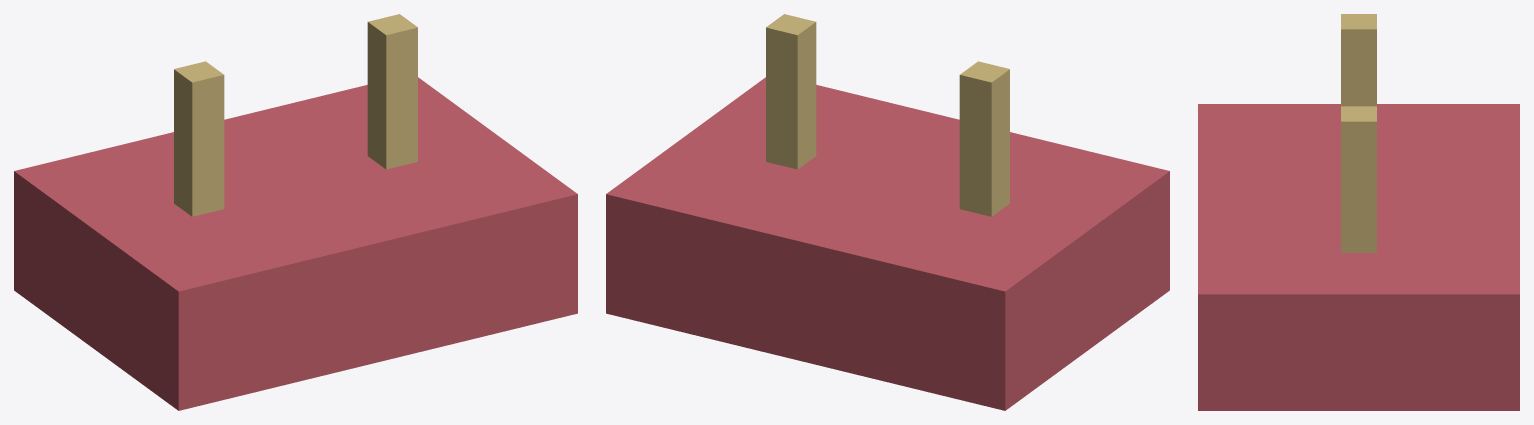
3 renders of one model, left to right at view 1: azimuth 30°, elevation 25°; view 2: azimuth 150°, elevation 25°; view 3: azimuth 270°, elevation 25°, orthographic. The views are drawn at different scales.
Visible parts, largest first — view 1: L104_W125_red_0, L104_W125_gold_1; view 2: L104_W125_red_0, L104_W125_gold_1; view 3: L104_W125_red_0, L104_W125_gold_1.
Boxes of the visible parts, x1,y1,x2,y2 form: L104_W125_red_0: (14, 77, 577, 410); L104_W125_gold_1: (174, 14, 417, 216); L104_W125_red_0: (606, 77, 1169, 410); L104_W125_gold_1: (766, 14, 1009, 216); L104_W125_red_0: (1198, 104, 1519, 410); L104_W125_gold_1: (1341, 14, 1376, 252).
Bounding box in the file's own units: 0.007 × 0.0045 × 0.005.
